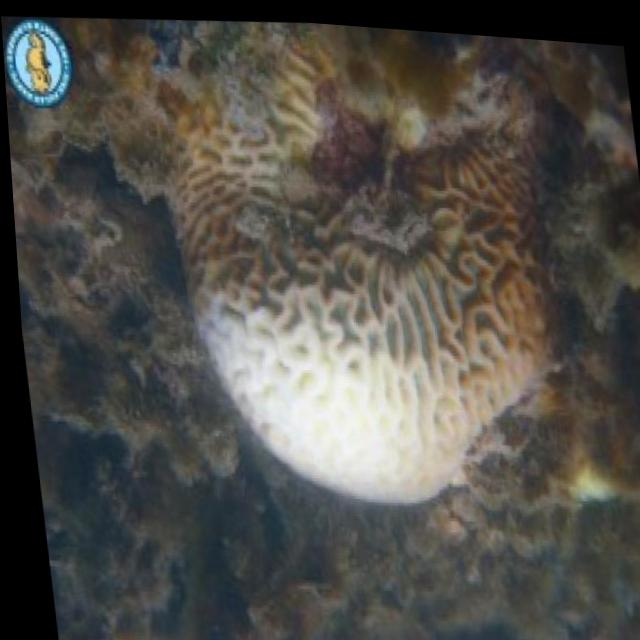Bleached Coral: (172, 182, 514, 524)
